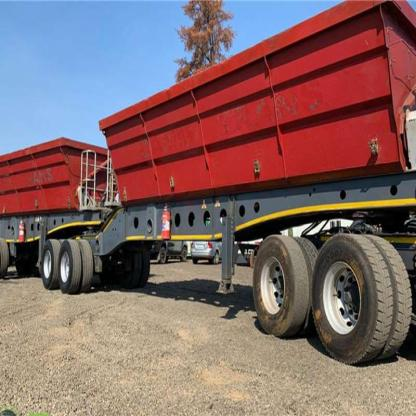dump_truck: (5, 4, 416, 382)
